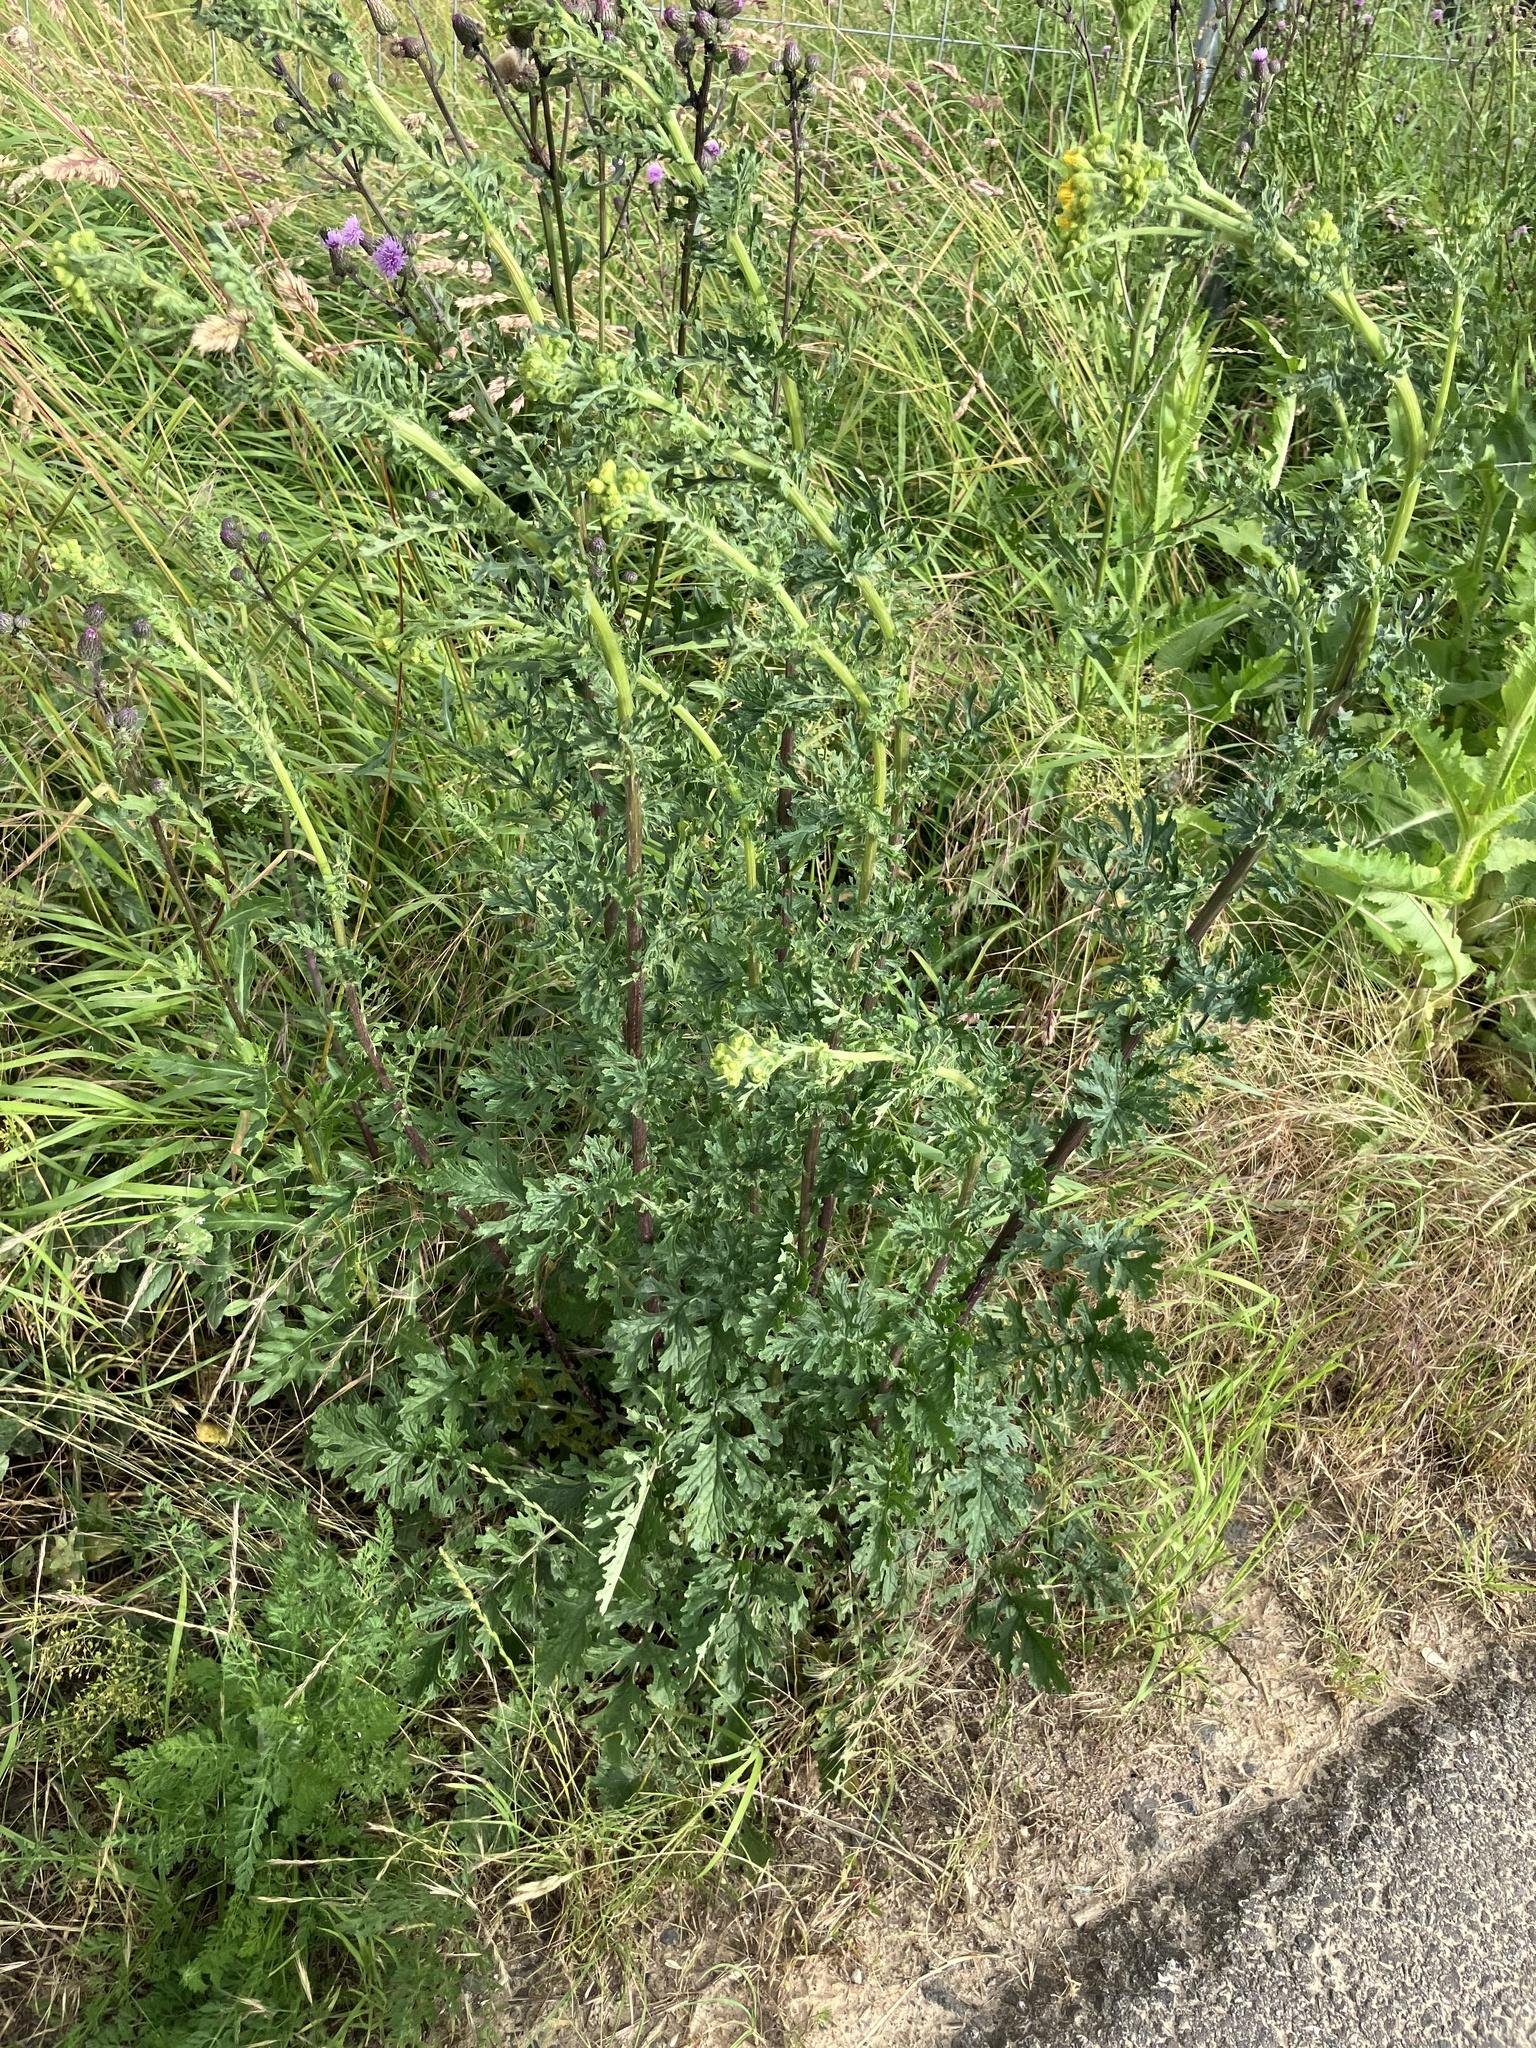Jacobaea vulgaris: (160, 47, 1376, 1663)
